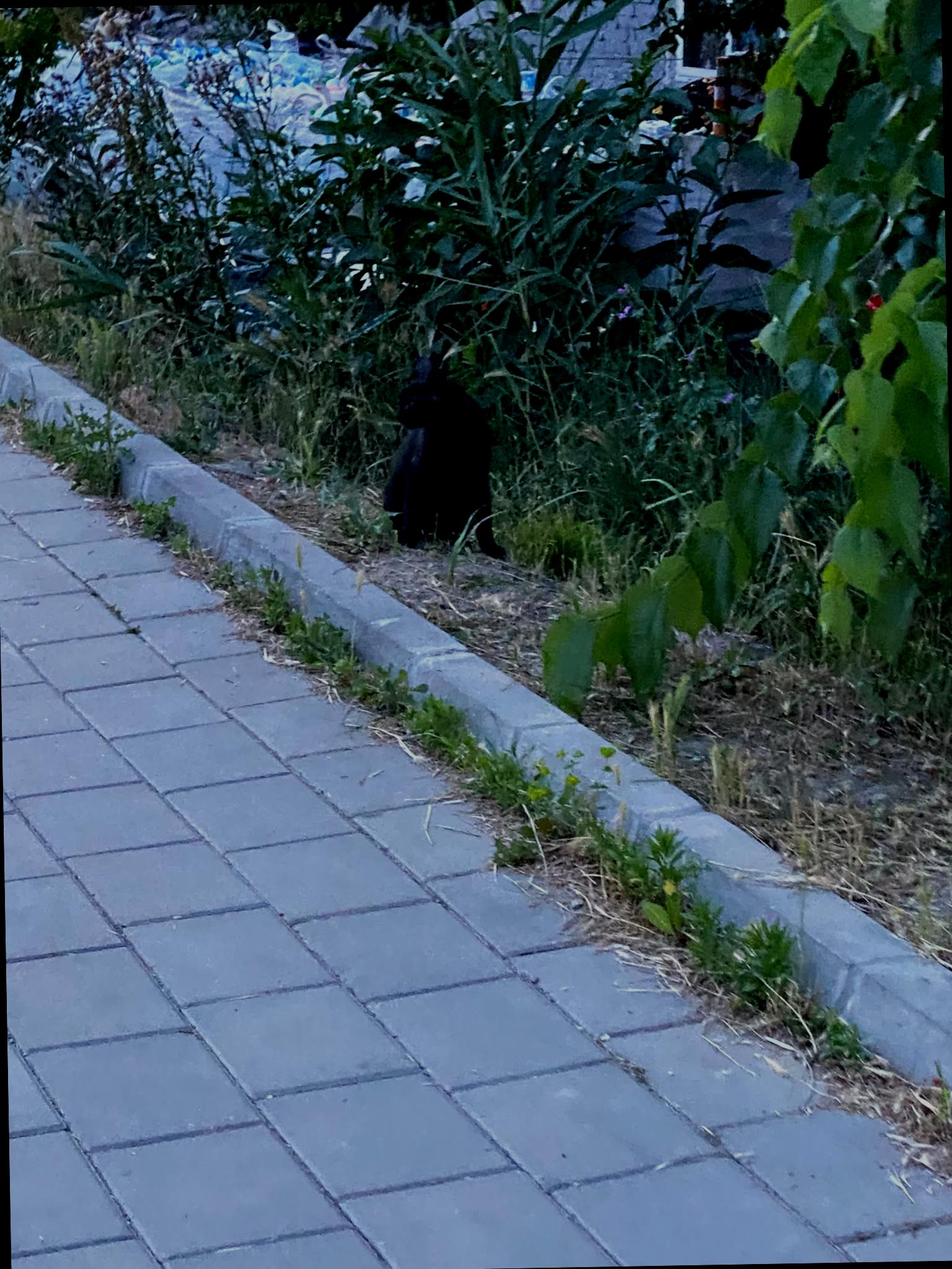macka: (378, 362, 508, 562)
